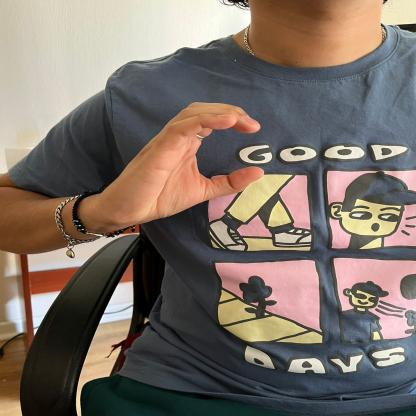C: (107, 96, 265, 220)
